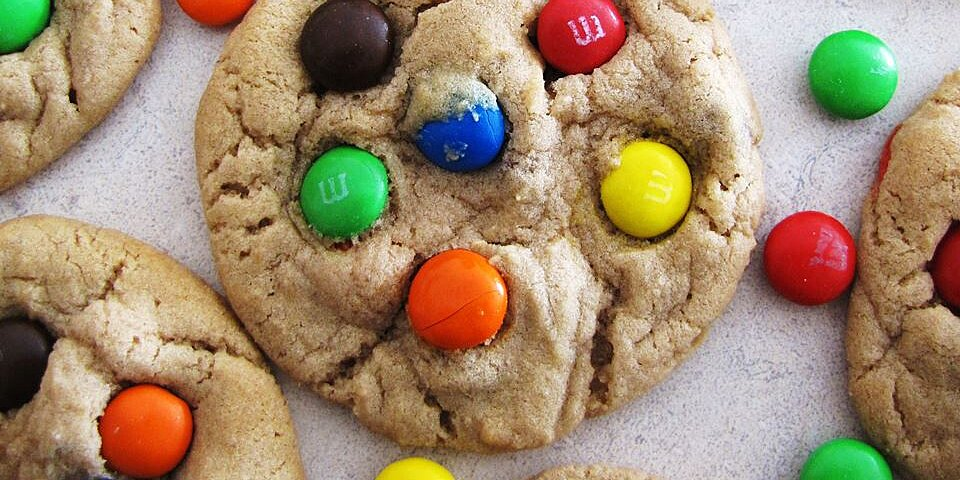mm: (409, 249, 509, 352), (408, 73, 506, 170), (762, 210, 859, 306), (599, 140, 692, 238), (97, 383, 192, 478), (299, 1, 395, 93), (299, 144, 390, 239), (809, 30, 898, 119), (536, 1, 627, 73), (1, 306, 52, 411), (800, 439, 892, 480), (932, 217, 960, 318), (1, 1, 52, 56), (176, 1, 256, 28), (371, 457, 454, 480)
